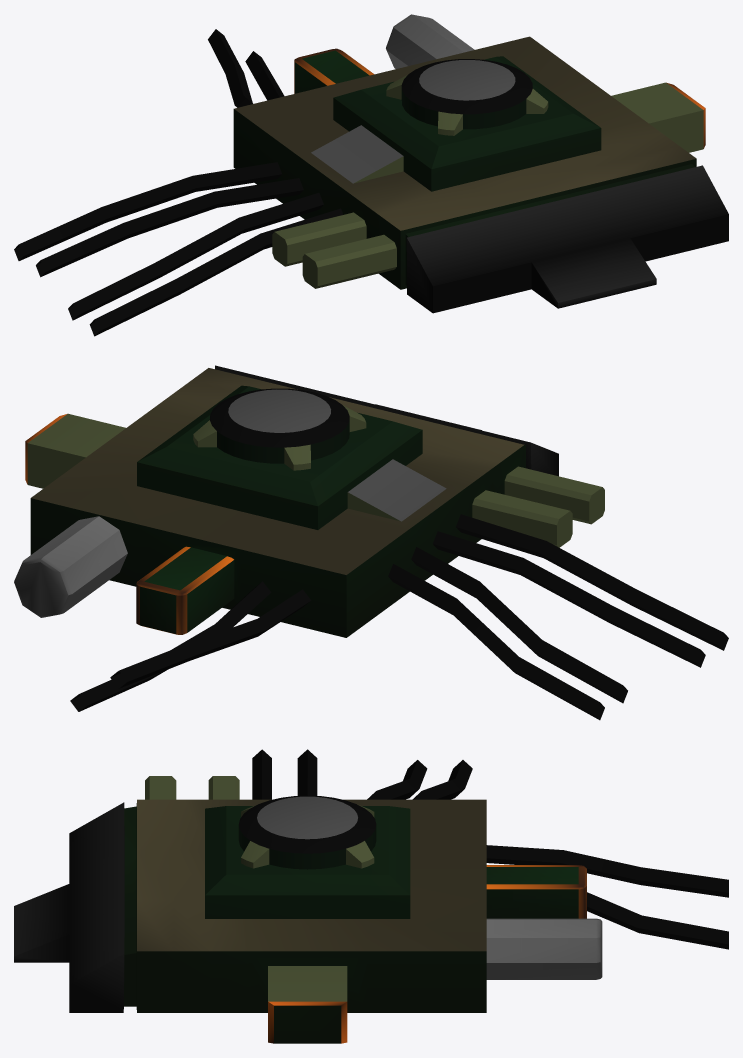
Rendered from Alien_Circut.fbx.
3 renders of one model, top to bottom at view 1: azimuth 30°, elevation 25°; view 2: azimuth 150°, elevation 25°; view 3: azimuth 270°, elevation 25°, orthographic. The views are drawn at different scales.
Visible parts, largest first — view 1: alien device 1; view 2: alien device 1; view 3: alien device 1.
Part boxes in pixels (x1,y1,x2,y2): alien device 1: (14,14,728,336); alien device 1: (14,365,728,720); alien device 1: (14,749,728,1043).
Size of the model in its own units: 982 by 219 by 940.
